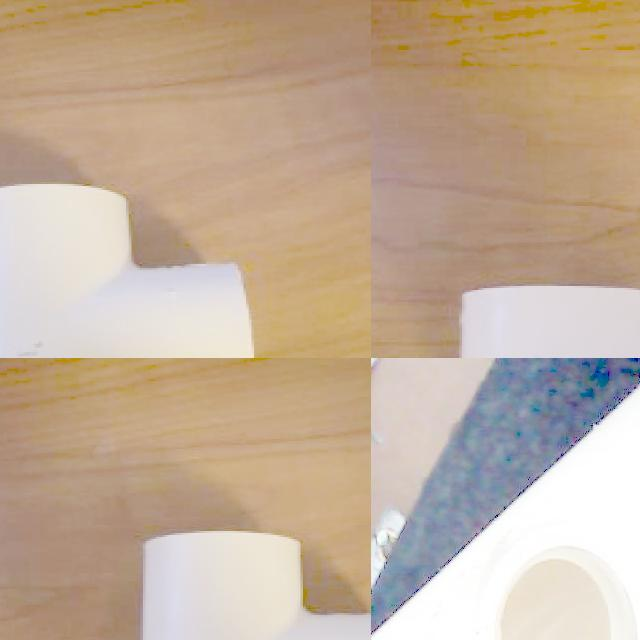T Joint: (371, 387, 640, 640), (0, 184, 255, 358), (139, 532, 371, 640)
